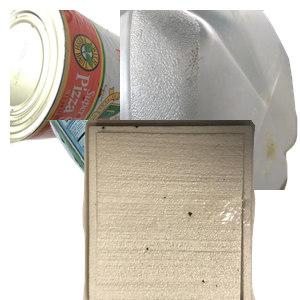glass: (37, 120, 262, 300)
metal: (10, 10, 159, 152)
plastic: (120, 10, 300, 190)
trash: (80, 120, 300, 300)
